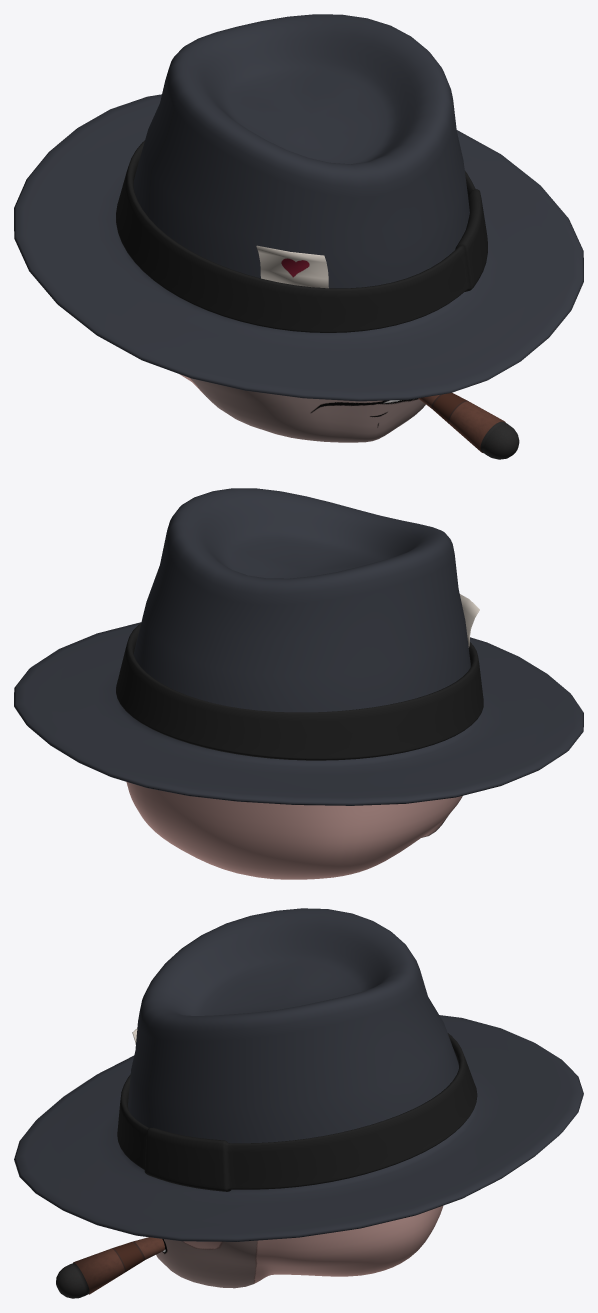
The model's file is Mafia.fbx.
The picture shows the model from 3 angles, top to bottom: view 1: azimuth 30°, elevation 25°; view 2: azimuth 150°, elevation 25°; view 3: azimuth 270°, elevation 25°; orthographic projection. The views are drawn at different scales.
Parts seen in each view (by area): view 1: Cube; view 2: Cube; view 3: Cube.
Boxes of the visible parts, <box> form: Cube: <box>14,14,583,459</box>; Cube: <box>14,488,583,879</box>; Cube: <box>14,908,583,1298</box>.
Bounding box in the file's own units: 227 × 149 × 249.
6 materials, 3 textured.
